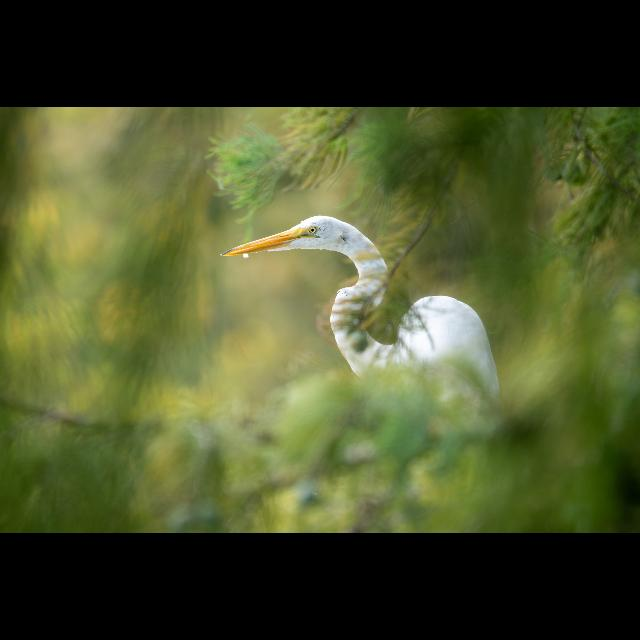egret: (216, 212, 512, 420)
